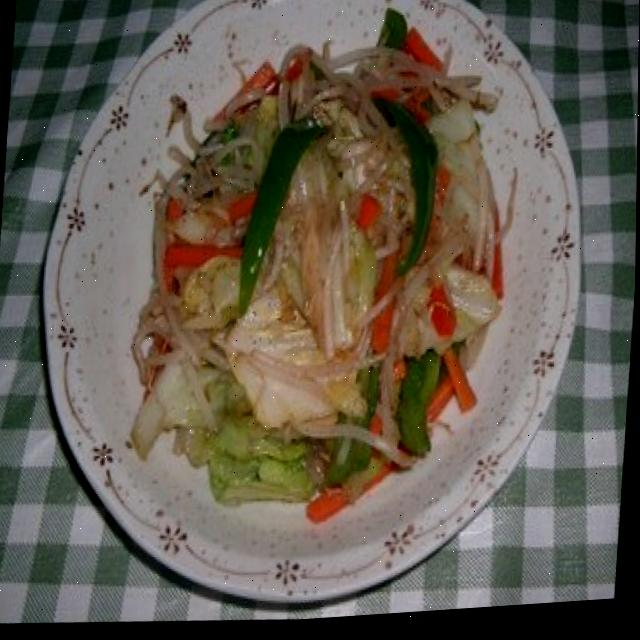蔬菜料理: (96, 0, 558, 564)
